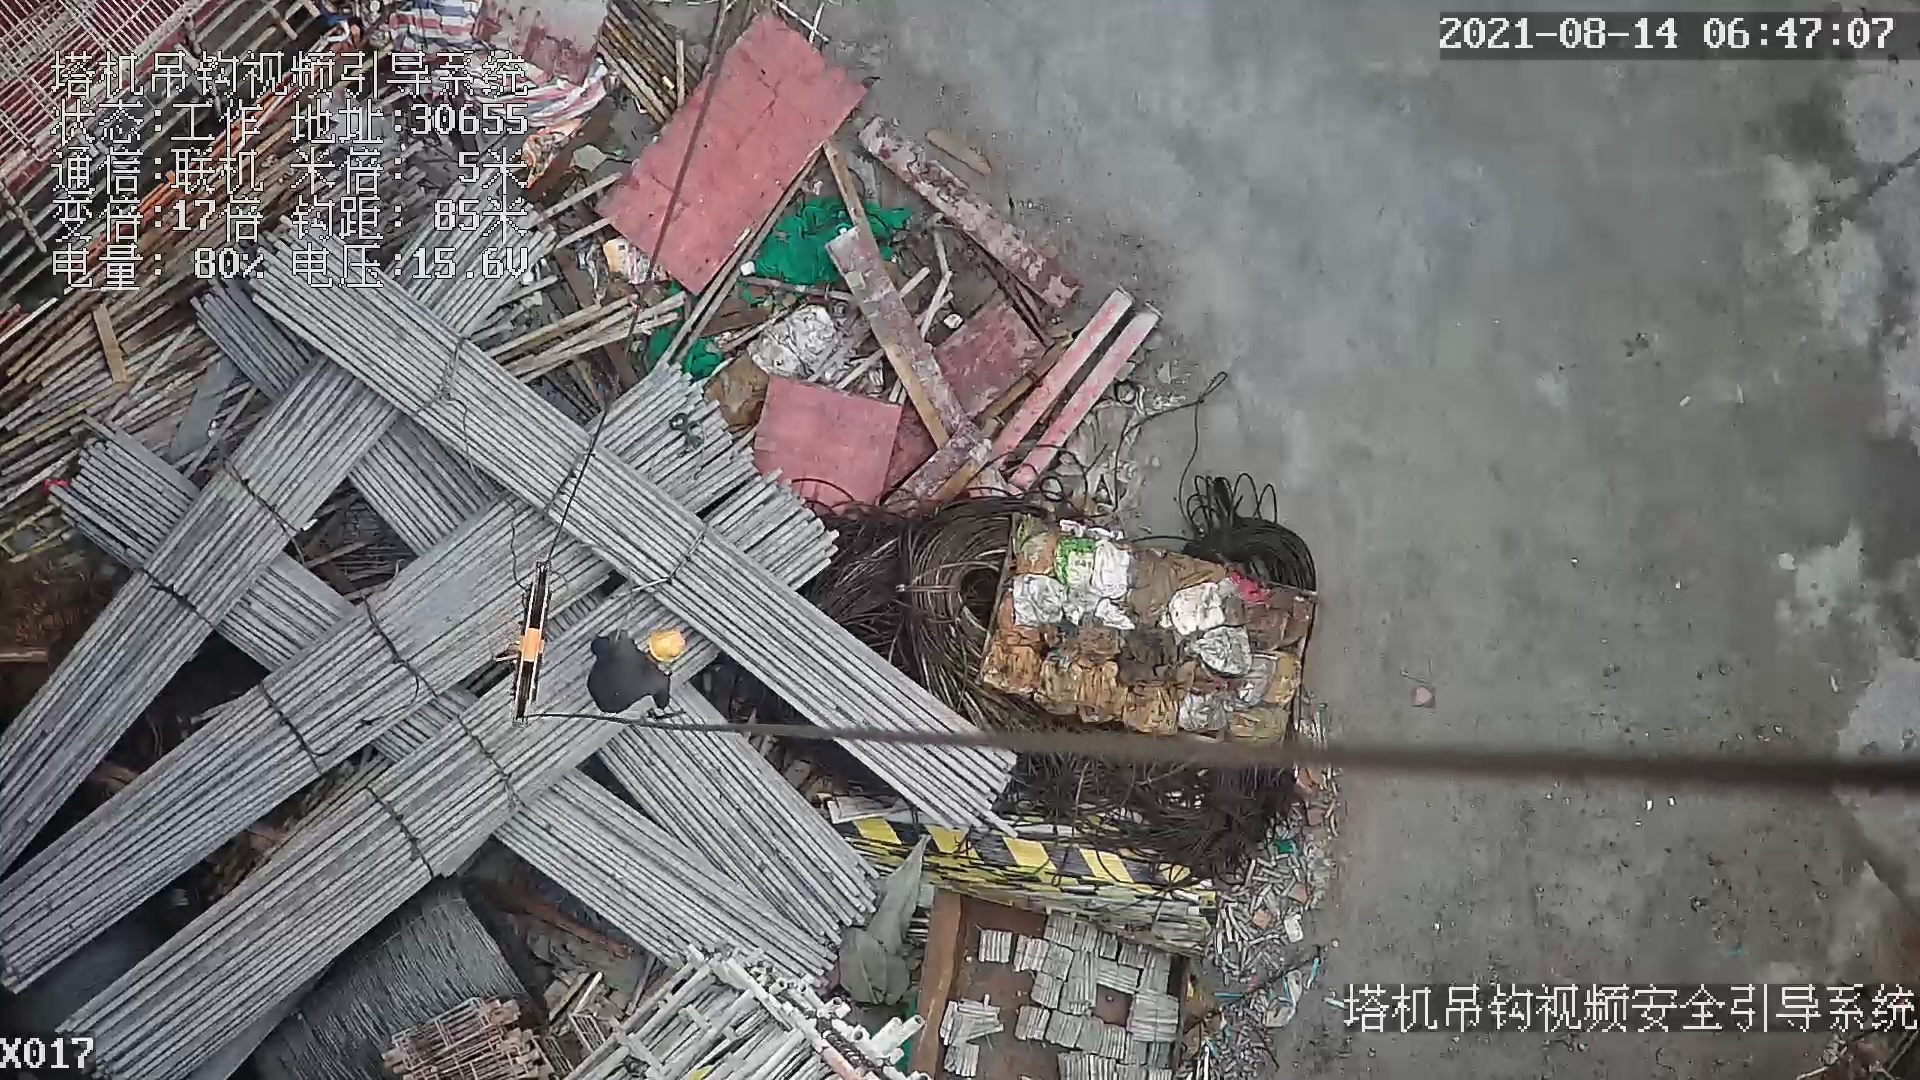board: (588, 8, 877, 300)
helmet: (644, 626, 688, 668)
hook: (504, 560, 553, 721)
person: (583, 621, 687, 722)
